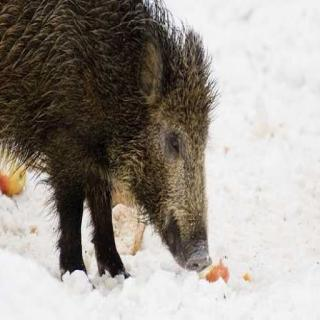Pig: (1, 2, 242, 296)
